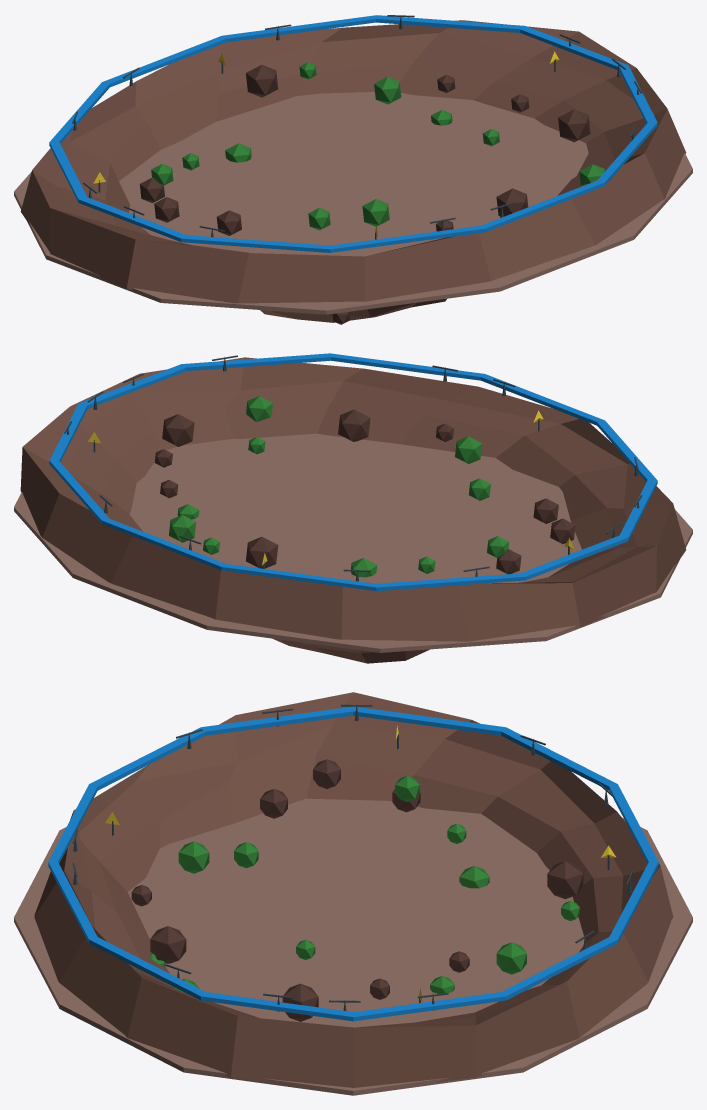
3 renders of one model, top to bottom at view 1: azimuth 30°, elevation 25°; view 2: azimuth 150°, elevation 25°; view 3: azimuth 270°, elevation 25°, orthographic. The views are drawn at different scales.
Visible parts, largest first — view 1: HoDa_Quarry, HoDa_Apron, HoDa_FactionRing, HoDa_RockAcc_14, HoDa_RockAcc_11, HoDa_RockAcc_2, HoDa_Bush_2, HoDa_Bush_11, HoDa_RockAcc_13, HoDa_RockAcc_1, HoDa_RockAcc_10; view 2: HoDa_Quarry, HoDa_Apron, HoDa_FactionRing, HoDa_RockAcc_14, HoDa_RockAcc_2, HoDa_RockAcc_11, HoDa_Bush_11, HoDa_Bush_2, HoDa_Bush_14, HoDa_RockAcc_1, HoDa_RockAcc_13; view 3: HoDa_Quarry, HoDa_Apron, HoDa_FactionRing, HoDa_RockAcc_11, HoDa_RockAcc_2, HoDa_Bush_11, HoDa_RockAcc_14, HoDa_Bush_2, HoDa_RockAcc_13, HoDa_RockAcc_1.
Part boxes in pixels (bbox=[...]): HoDa_Quarry: bbox=[20, 20, 686, 322]; HoDa_Apron: bbox=[14, 92, 692, 314]; HoDa_FactionRing: bbox=[49, 15, 657, 252]; HoDa_RockAcc_14: bbox=[558, 109, 590, 142]; HoDa_RockAcc_11: bbox=[246, 64, 278, 97]; HoDa_RockAcc_2: bbox=[496, 188, 528, 216]; HoDa_Bush_2: bbox=[374, 76, 401, 104]; HoDa_Bush_11: bbox=[362, 199, 389, 226]; HoDa_RockAcc_13: bbox=[154, 197, 179, 222]; HoDa_RockAcc_1: bbox=[216, 210, 241, 235]; HoDa_RockAcc_10: bbox=[139, 177, 164, 203]; HoDa_Quarry: bbox=[20, 357, 686, 663]; HoDa_Apron: bbox=[14, 433, 692, 652]; HoDa_FactionRing: bbox=[49, 353, 657, 591]; HoDa_RockAcc_14: bbox=[162, 414, 194, 446]; HoDa_RockAcc_2: bbox=[338, 409, 370, 441]; HoDa_RockAcc_11: bbox=[246, 537, 278, 568]; HoDa_Bush_11: bbox=[455, 436, 482, 463]; HoDa_Bush_2: bbox=[169, 515, 196, 542]; HoDa_Bush_14: bbox=[246, 396, 272, 421]; HoDa_RockAcc_1: bbox=[533, 498, 558, 523]; HoDa_RockAcc_13: bbox=[550, 518, 575, 543]; HoDa_Quarry: bbox=[34, 692, 673, 1087]; HoDa_Apron: bbox=[14, 798, 692, 1095]; HoDa_FactionRing: bbox=[48, 706, 658, 1021]; HoDa_RockAcc_11: bbox=[547, 861, 583, 899]; HoDa_RockAcc_2: bbox=[150, 926, 186, 963]; HoDa_Bush_11: bbox=[178, 841, 209, 873]; HoDa_RockAcc_14: bbox=[282, 983, 318, 1021]; HoDa_Bush_2: bbox=[496, 942, 526, 974]; HoDa_RockAcc_13: bbox=[313, 759, 340, 788]; HoDa_RockAcc_1: bbox=[260, 789, 287, 818].
Size of the model in its own units: 62.1 by 16.7 by 51.3.
